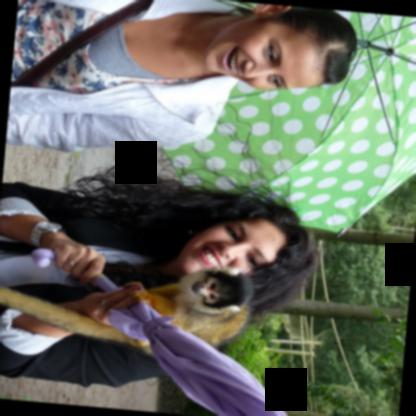handbag: (10, 0, 152, 87)
